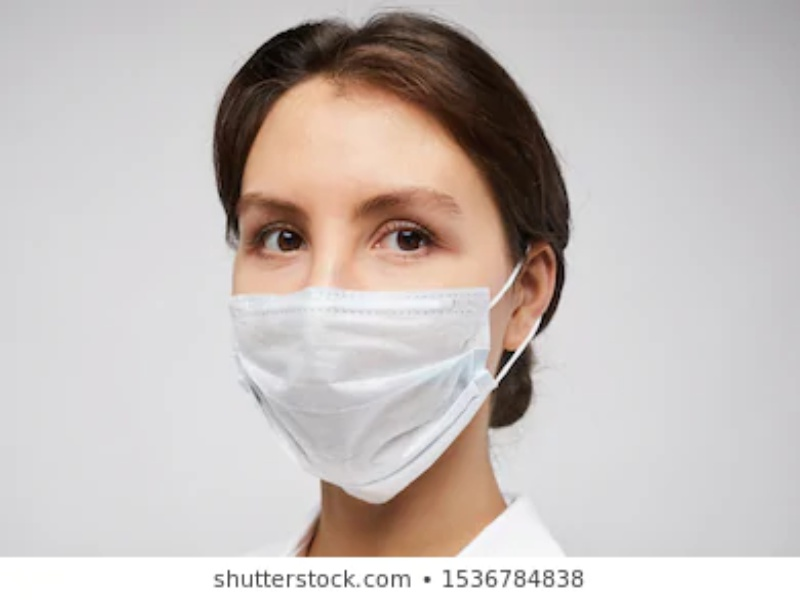ManaoArotava: (190, 43, 570, 538)
